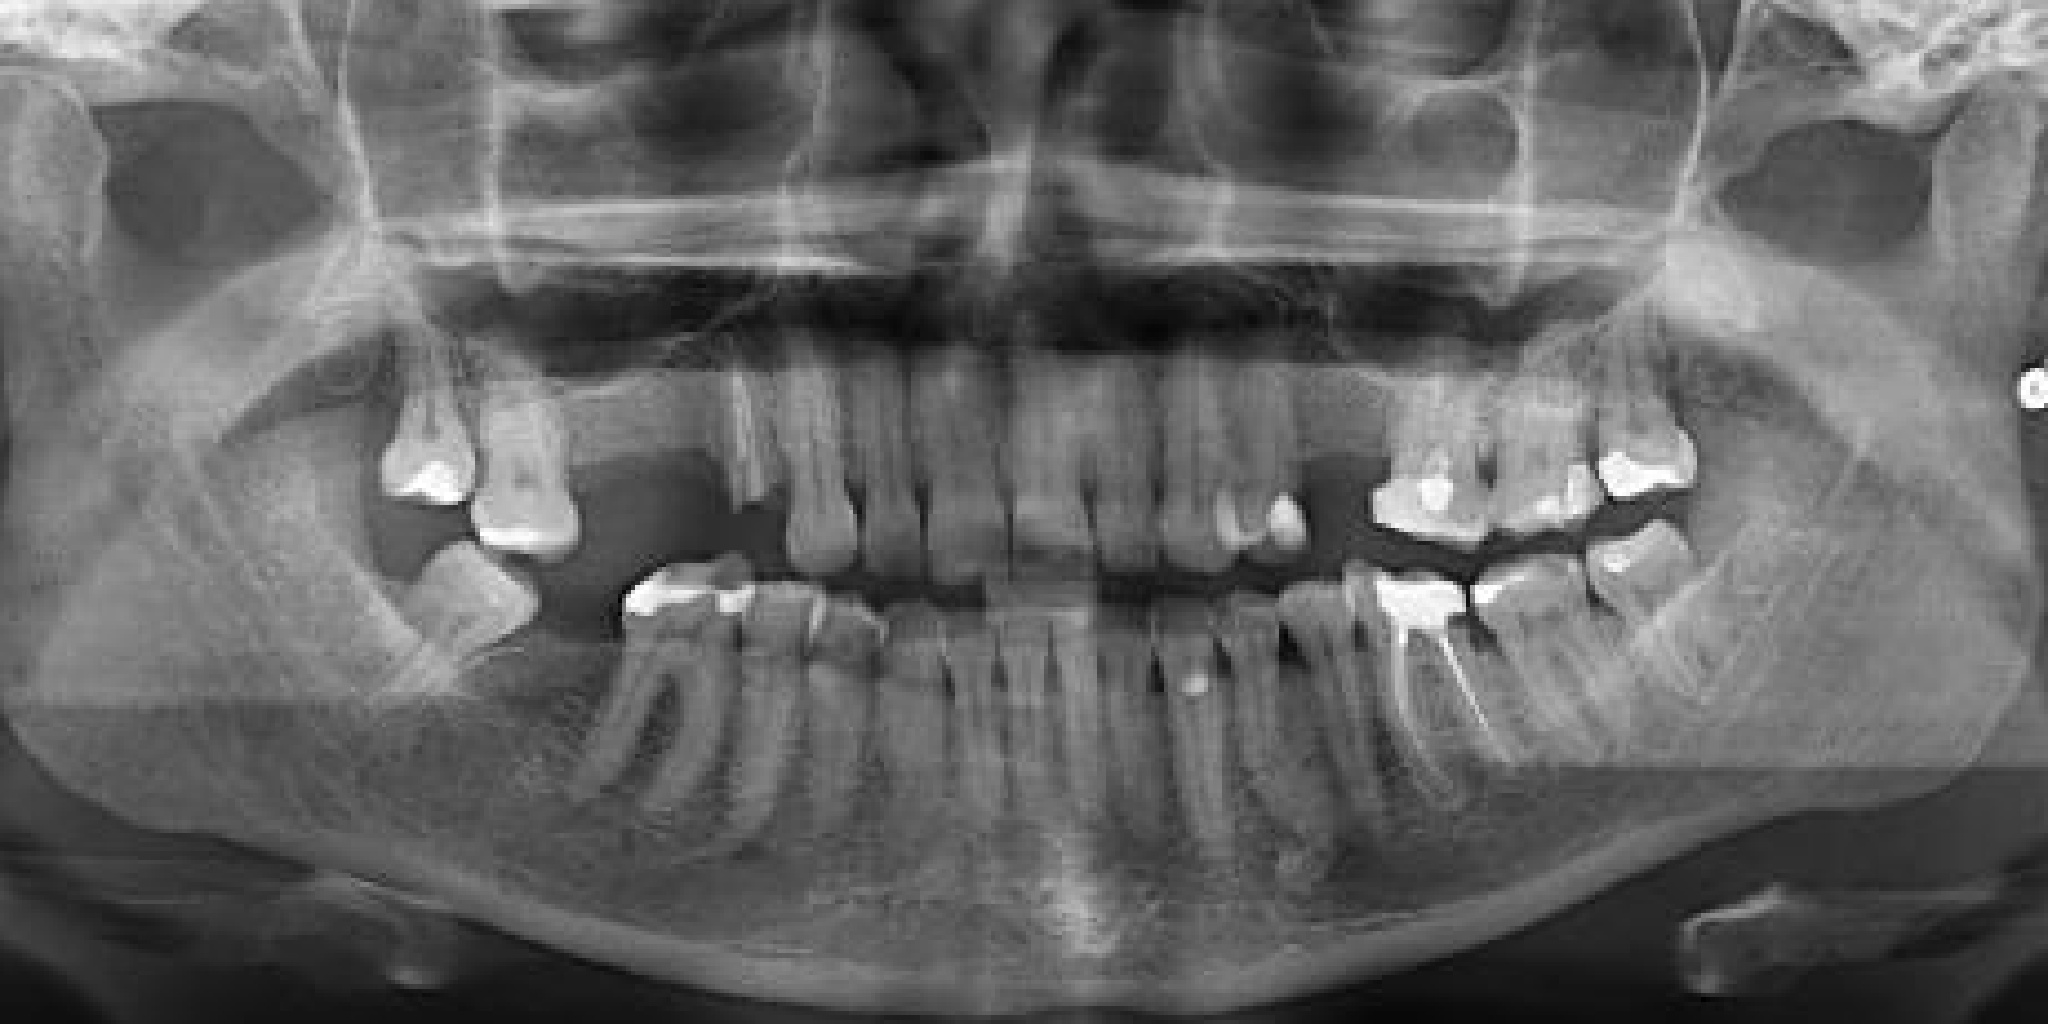Tooth: (1254, 481, 1650, 921), (341, 196, 666, 640), (1515, 410, 1823, 852), (1415, 461, 1712, 899), (610, 507, 906, 946), (1123, 521, 1415, 957), (1063, 533, 1341, 967), (904, 213, 1172, 641), (675, 216, 942, 644), (852, 522, 1112, 950), (1420, 196, 1680, 622), (906, 519, 1160, 942), (961, 520, 1208, 940), (763, 227, 1004, 647), (999, 229, 1240, 648), (1074, 229, 1314, 648), (615, 189, 856, 609), (846, 226, 1081, 643), (306, 188, 539, 603), (1153, 221, 1381, 633), (1320, 225, 1546, 637)
